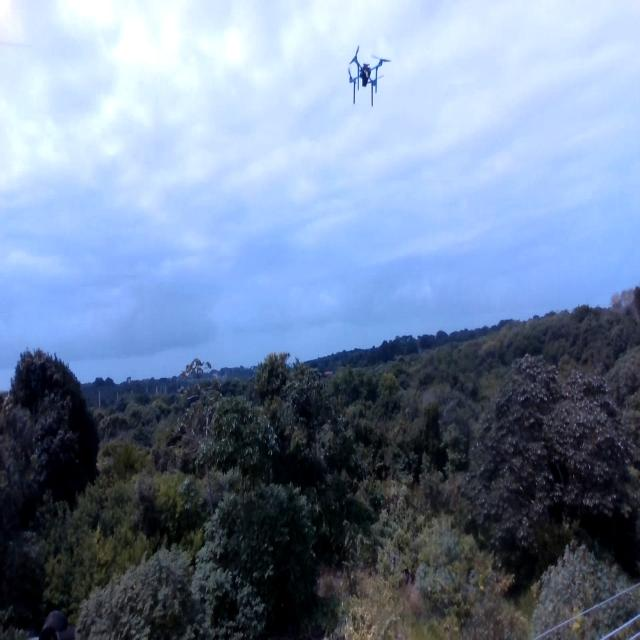-uav-: (337, 42, 392, 122)
